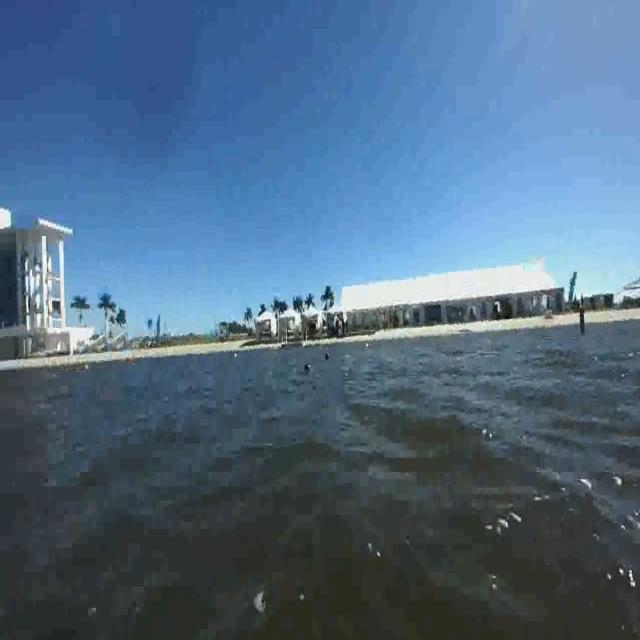black-buoy: (305, 363, 310, 372)
